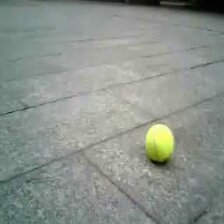tennis: (145, 123, 172, 161)
